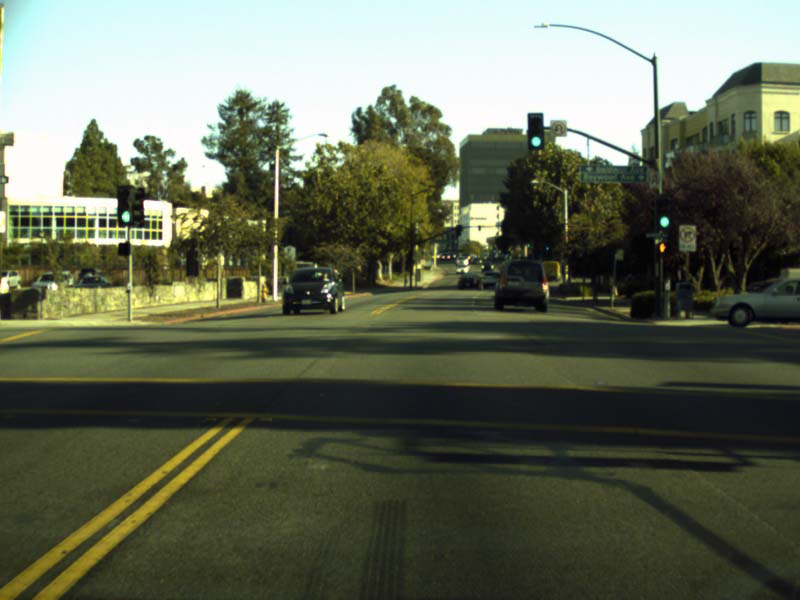Green: (117, 186, 134, 226), (527, 113, 544, 149), (655, 195, 671, 230), (542, 241, 551, 255)
